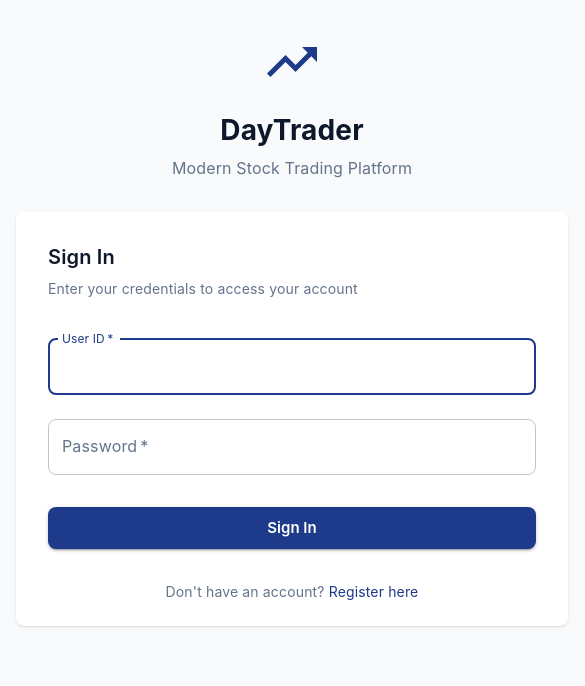
it: LoginPage › displays error message on login failure
This screenshot has width=585, height=686.
Type "testuser" into the field labelled "User ID *" at coordinates (292, 367), box x1=48 y1=339 x2=536 y2=395
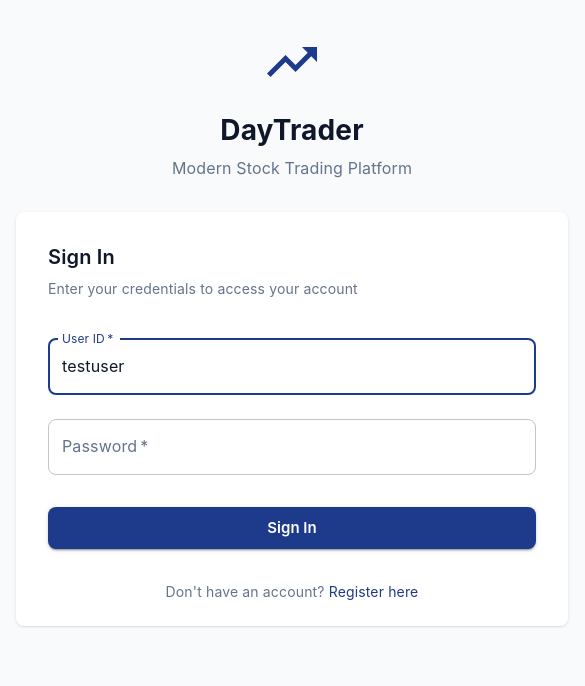
Type "wrongpassword" into the password field labelled "Password *" at coordinates (292, 447), box x1=48 y1=419 x2=536 y2=475
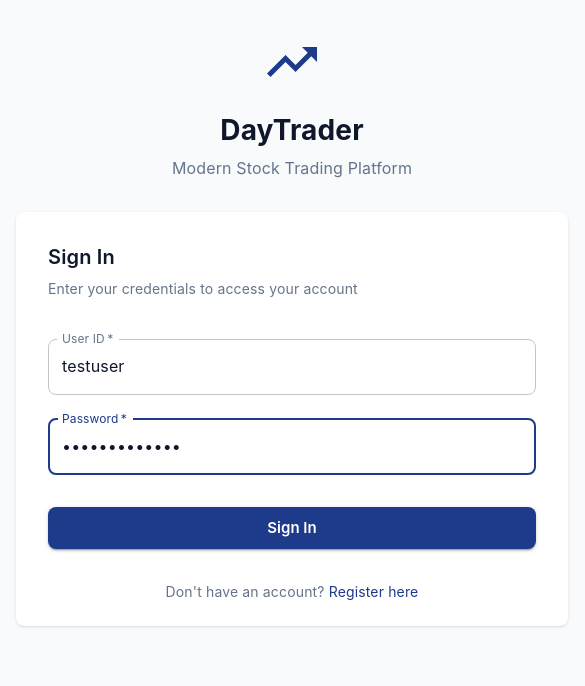
Click the button "Sign In" at coordinates (292, 528), box x1=48 y1=507 x2=536 y2=549
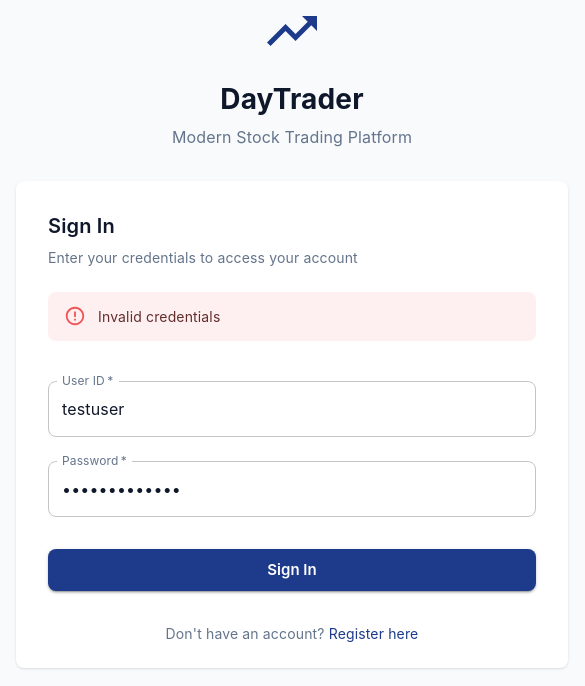
Result: the text "Invalid credentials" is shown at x1=98 y1=308 x2=220 y2=325
